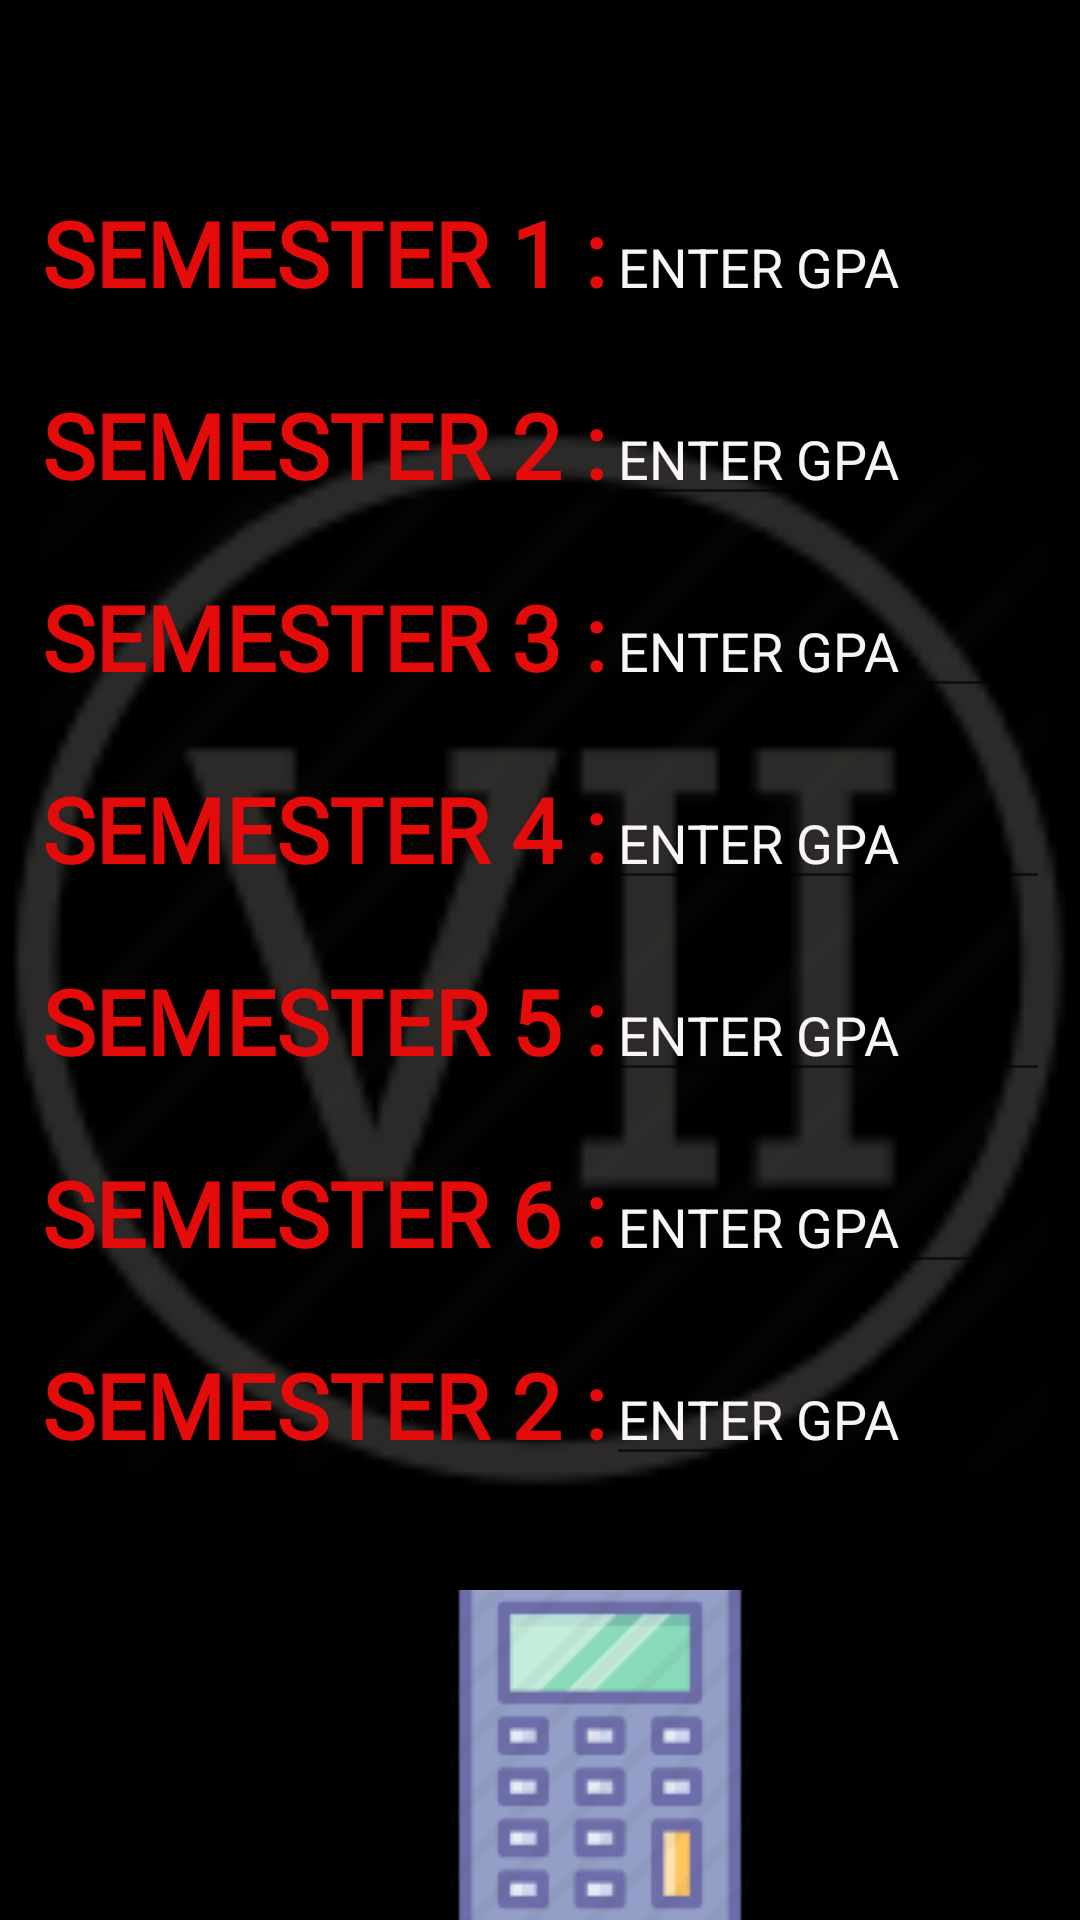

Point at icon controls on the screen. Image size 1080*1920, points as point (x, y).
calc: point (600, 1755)
